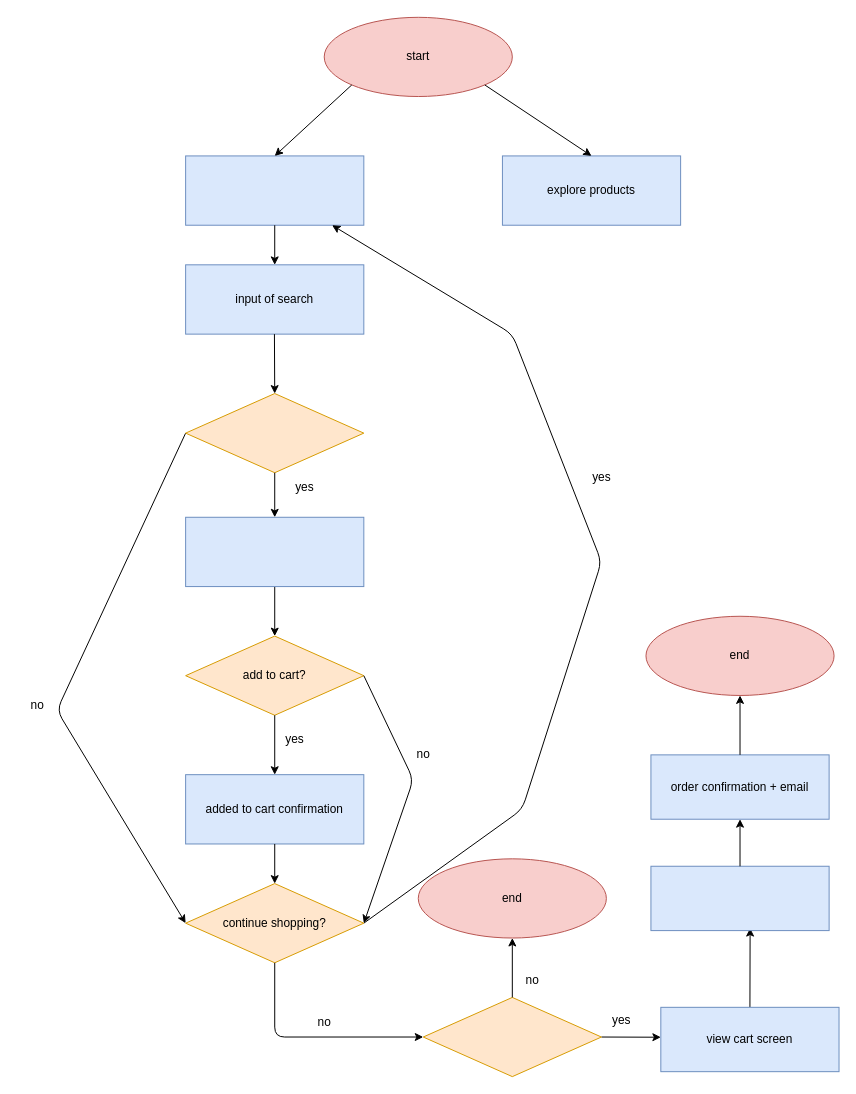
The diagram is 856 pixels wide and 1094 high, and some of its shapes have lost their labels. The shapes that lost their labels are listed below. From the top down, each one's centre as x and y in pixels, then its label:
At (274,190): "search product".
At (274,433): "view product?".
At (274,551): "product for viewing".
At (739,898): "view payment screen".
At (511,1036): "checkout?".
